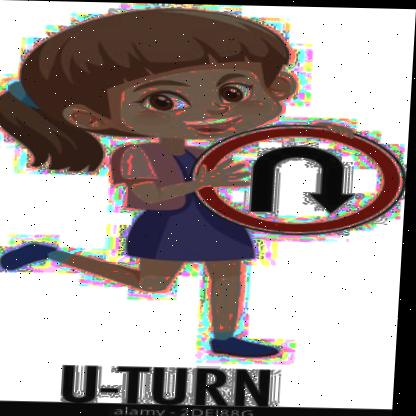U-turn: (192, 121, 409, 230)
